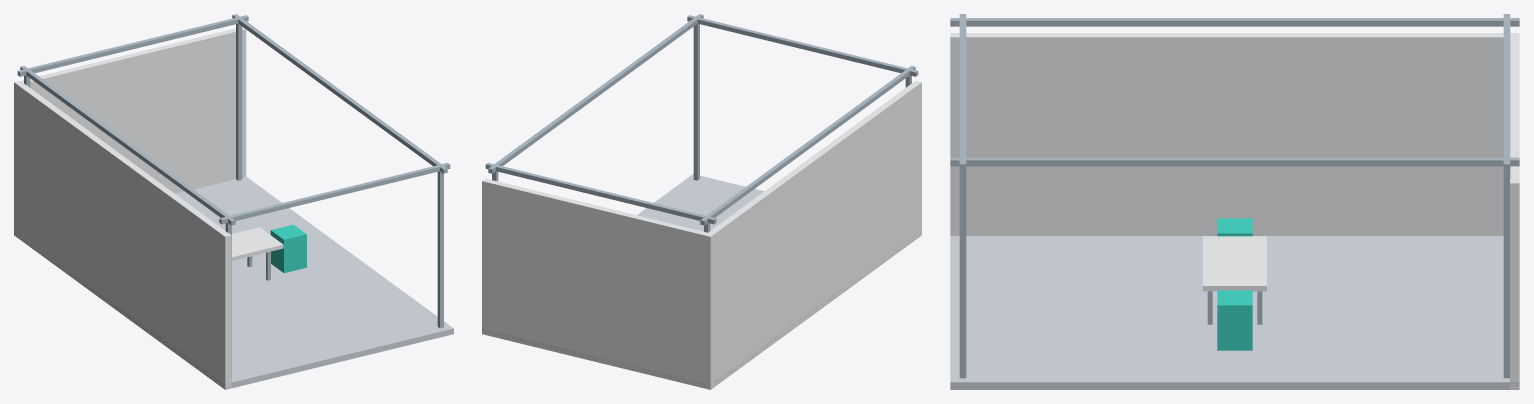
The picture shows the model from 3 angles, left to right: view 1: azimuth 30°, elevation 25°; view 2: azimuth 150°, elevation 25°; view 3: azimuth 270°, elevation 25°; orthographic projection. The views are drawn at different scales.
Parts seen in each view (by area): view 1: Exhibition Booth Concept; view 2: Exhibition Booth Concept; view 3: Exhibition Booth Concept.
Part boxes in pixels (<box>): Exhibition Booth Concept: <box>14,14,453,389</box>; Exhibition Booth Concept: <box>482,14,921,389</box>; Exhibition Booth Concept: <box>950,14,1519,389</box>.
Size of the model in its own units: 5 by 3.49 by 8.
